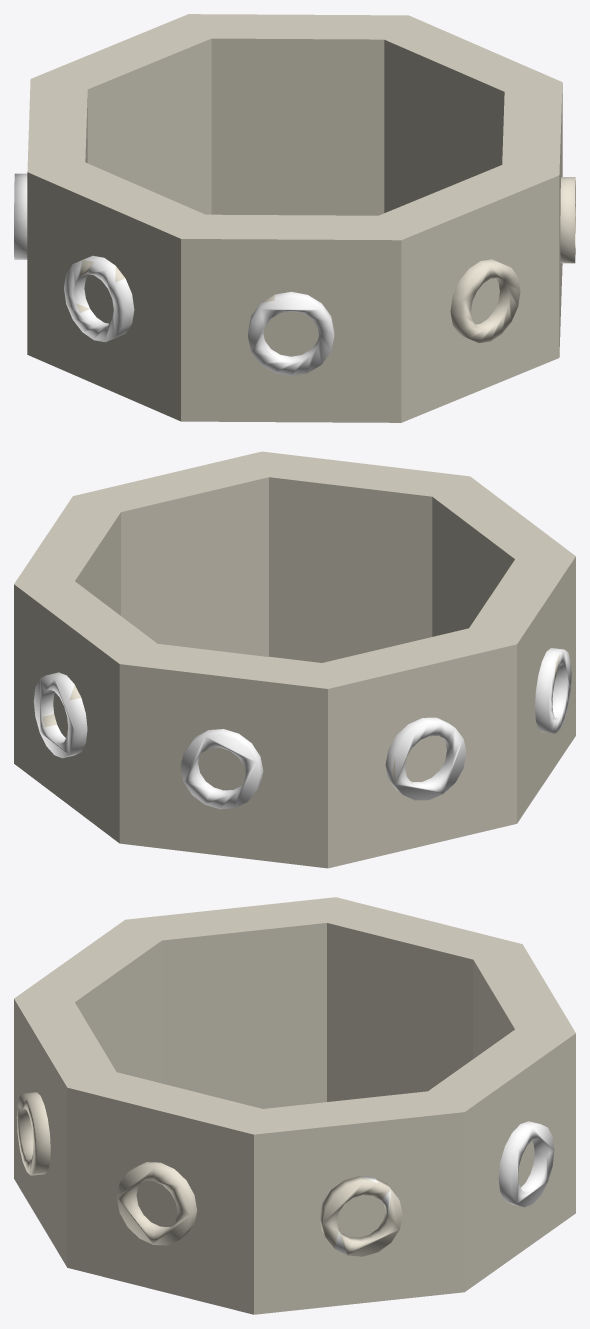
Rendered from Tower2.fbx.
3 views of the same model, one above another, from view 1: azimuth 30°, elevation 25°; view 2: azimuth 150°, elevation 25°; view 3: azimuth 270°, elevation 25° (orthographic).
Parts seen in each view (by area): view 1: Group2, Group5, Group6, Group3, Group4, Group7; view 2: Group2, Group7, Group8, Group9, Group6; view 3: Group2, Group4, Group10, Group9, Group3.
Boxes of the visible parts, x1,y1,x2,y2 form: Group2: (27, 14, 562, 422); Group5: (248, 291, 334, 375); Group6: (64, 255, 134, 342); Group3: (450, 259, 520, 342); Group4: (560, 177, 575, 263); Group7: (14, 173, 27, 259); Group2: (14, 451, 575, 868); Group7: (385, 717, 466, 800); Group8: (180, 729, 263, 809); Group9: (33, 672, 87, 758); Group6: (535, 648, 571, 733); Group2: (14, 897, 575, 1314); Group4: (117, 1162, 197, 1245); Group10: (319, 1176, 402, 1256); Group9: (498, 1121, 554, 1207); Group3: (16, 1092, 50, 1175).
Size of the model in its own units: 1979 by 700 by 1979.
